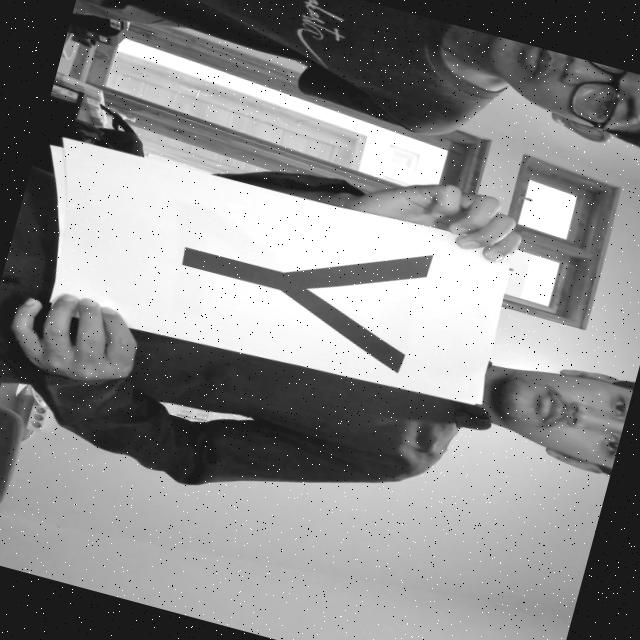y: (140, 180, 452, 386)
